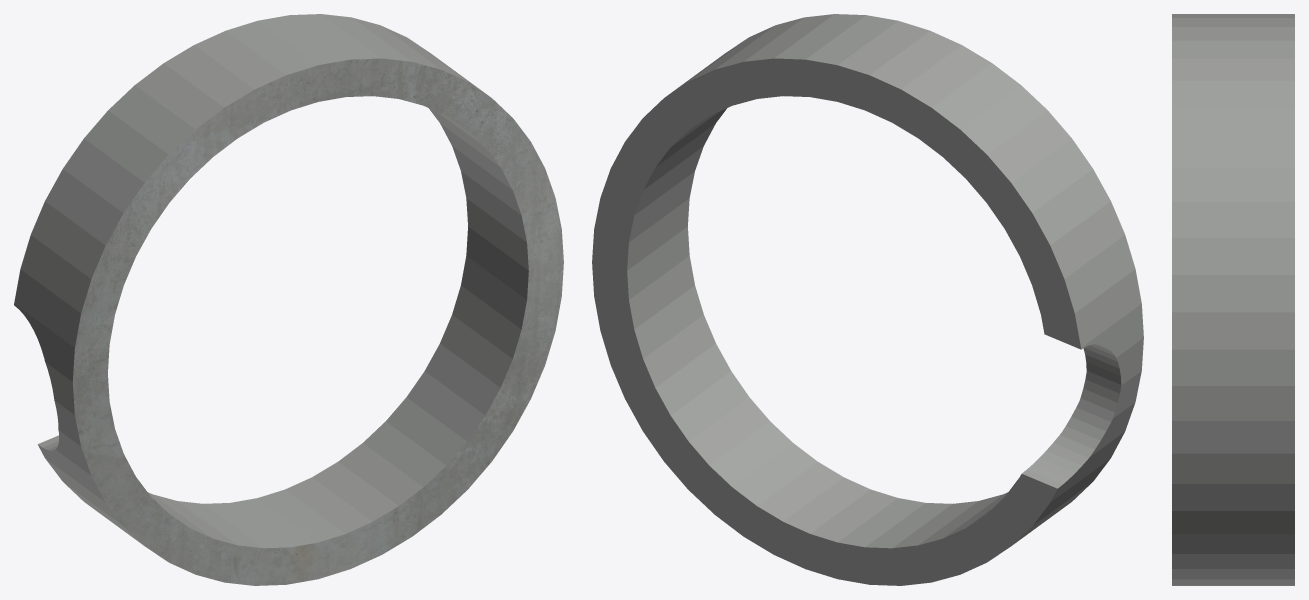
The model's file is pool_012.obj.
3 renders of one model, left to right at view 1: azimuth 30°, elevation 25°; view 2: azimuth 150°, elevation 25°; view 3: azimuth 270°, elevation 25°, orthographic.
Size of the model in its own units: 14 by 14 by 3.
